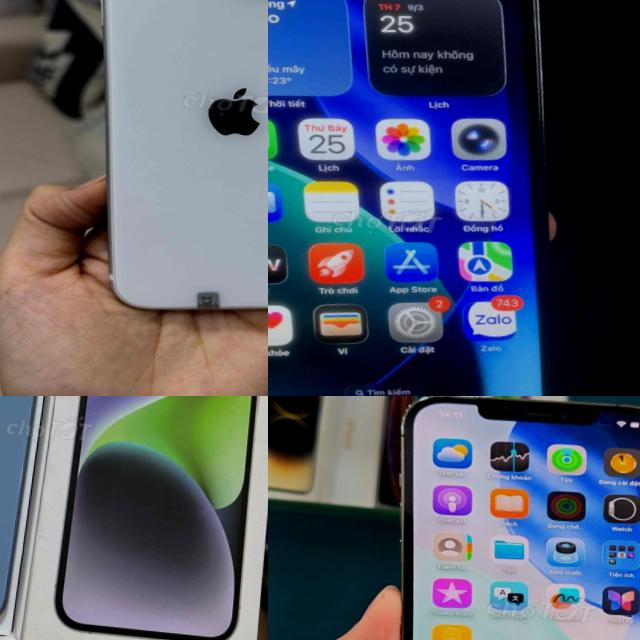gen_12_13: (268, 0, 615, 396), (357, 396, 640, 640)
gen_14: (0, 396, 59, 640)
gen_7_8: (49, 0, 268, 337)
